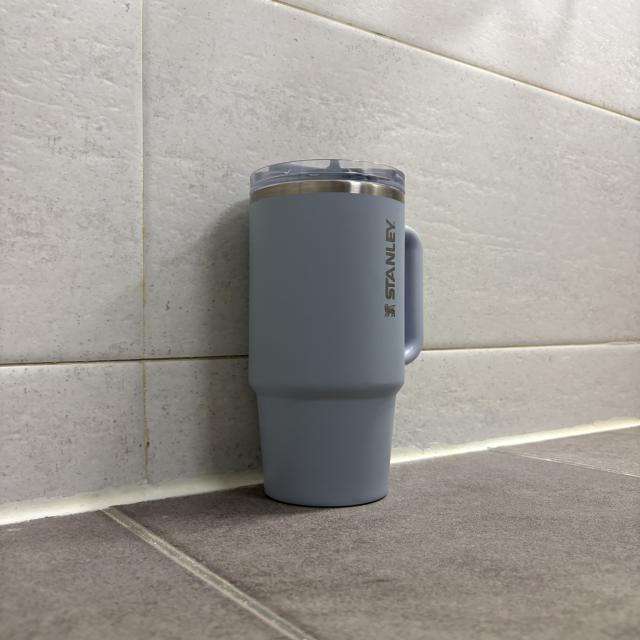waterbottle: (251, 158, 425, 507)
